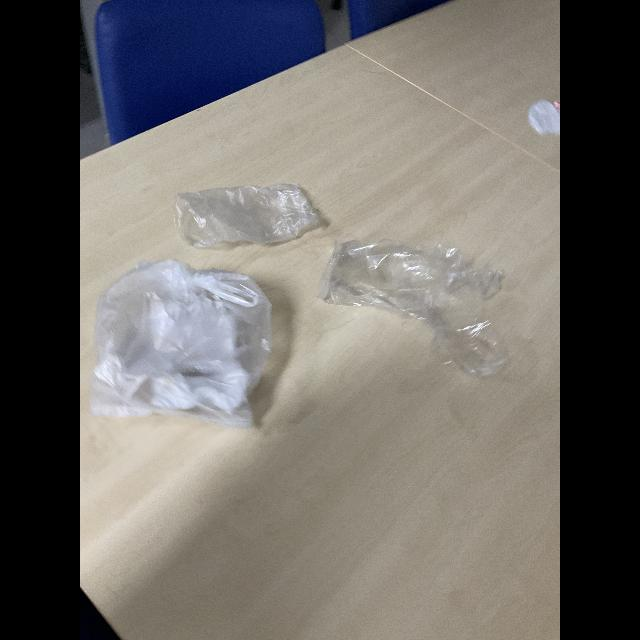plastic_bag: (86, 256, 300, 434)
scrap_plastic: (318, 234, 530, 384), (170, 163, 332, 263)
